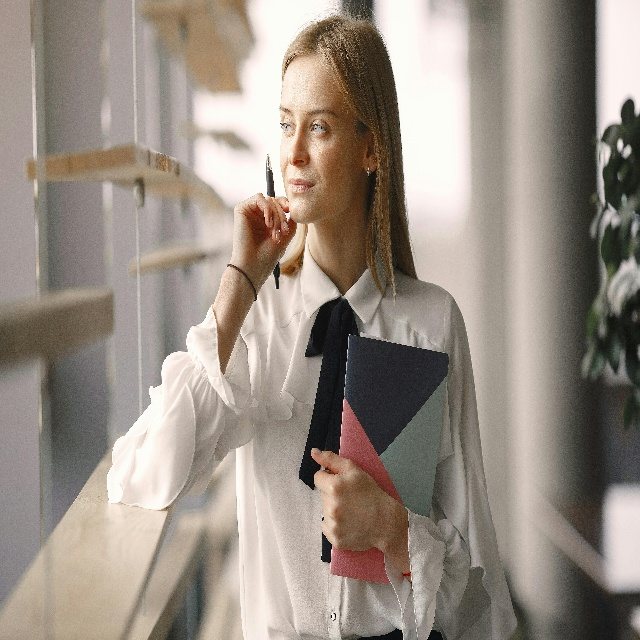Sin_guantes: (310, 442, 389, 555), (231, 190, 297, 283)
